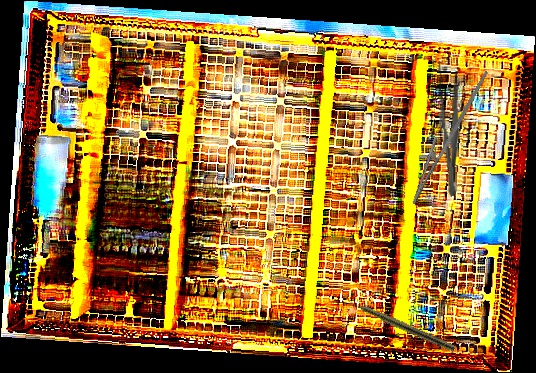Dressing Forceps: (434, 59, 466, 198)
Handpiece: (340, 294, 457, 353)
Needle Holder: (401, 59, 489, 212)
